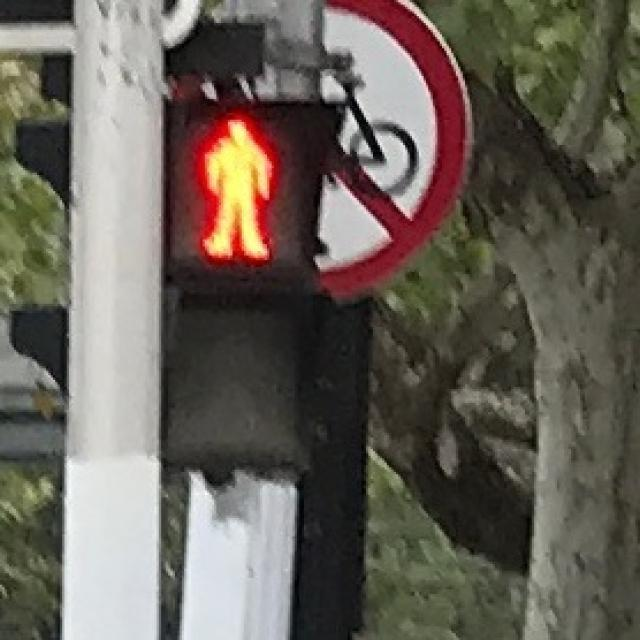red-crossing: (194, 109, 276, 261)
